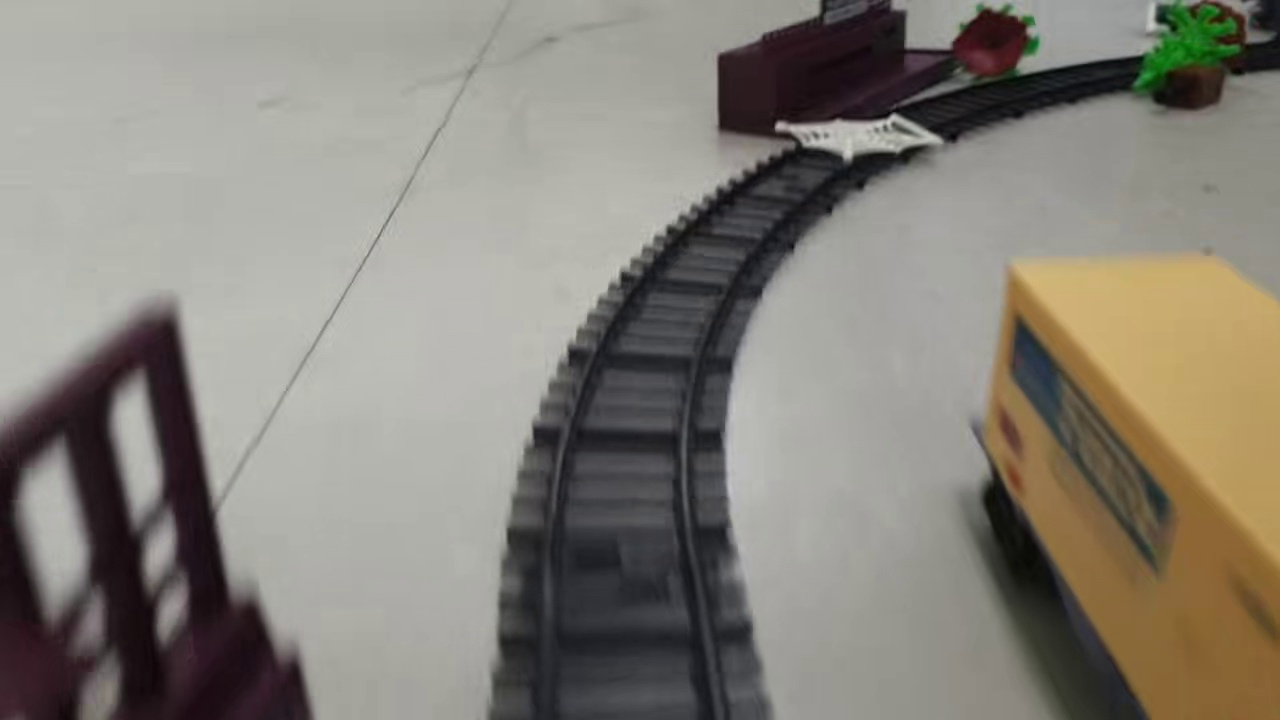box: (1153, 61, 1231, 110)
tree: (1131, 1, 1249, 96), (951, 1, 1041, 79)
web: (772, 112, 948, 165)
